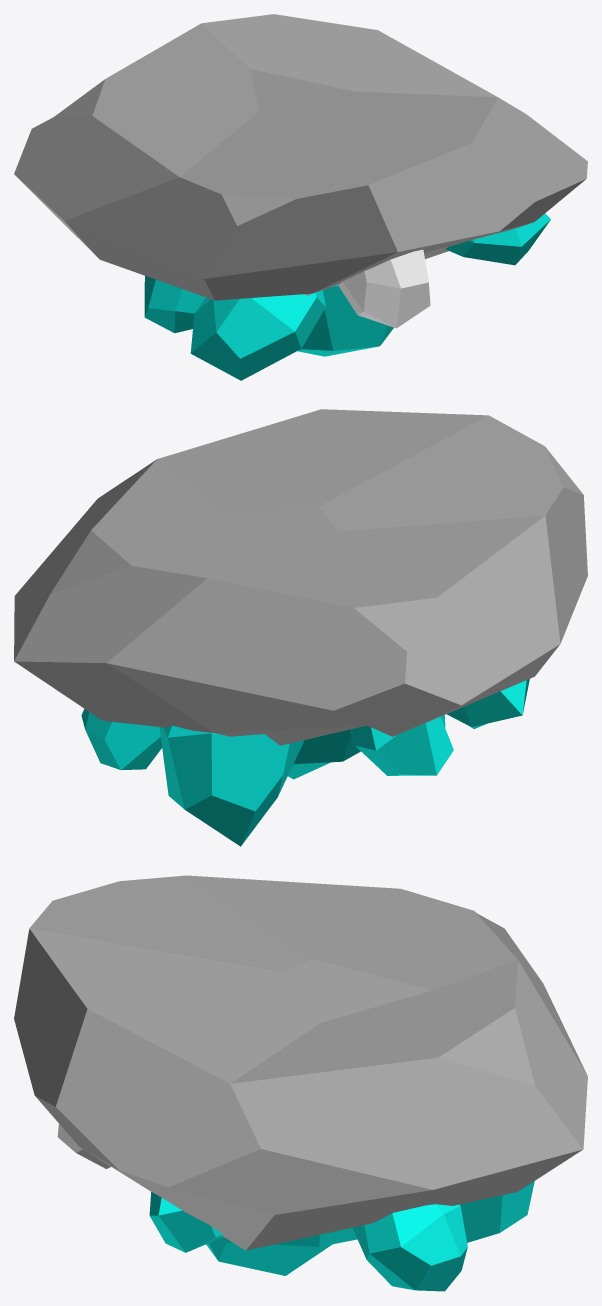
3 views of the same model, one above another, from view 1: azimuth 30°, elevation 25°; view 2: azimuth 150°, elevation 25°; view 3: azimuth 270°, elevation 25° (orthographic). The views are drawn at different scales.
Visible parts, largest first — view 1: 不规则石头.101, Cube.757, Cube.754, Cube.756, Cube.759, Cube.755; view 2: 不规则石头.101, Cube.753, Cube.755, Cube.758, Cube.757, Cube.756; view 3: 不规则石头.101, Cube.758, Cube.756, Cube.753, Cube.759.
Part boxes in pixels (x1,y1,x2,y2): 不规则石头.101: (14,14,587,300); Cube.757: (190,290,325,380); Cube.754: (338,249,430,328); Cube.756: (297,257,424,356); Cube.759: (445,213,550,265); Cube.755: (144,276,205,333); 不规则石头.101: (14,409,587,745); Cube.753: (159,725,304,846); Cube.755: (350,715,453,775); Cube.758: (81,709,162,770); Cube.757: (446,679,529,728); Cube.756: (288,729,360,779); 不规则石头.101: (14,875,587,1250); Cube.758: (352,1204,467,1291); Cube.756: (206,1228,357,1275); Cube.753: (459,1181,534,1242); Cube.759: (149,1192,223,1252).
Size of the model in its own units: 243 by 134 by 226.
